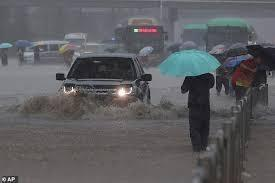Umbrella: (156, 47, 222, 76), (226, 46, 249, 58), (251, 43, 268, 58), (14, 36, 33, 49), (139, 45, 153, 59), (58, 42, 73, 55), (0, 40, 14, 50)
